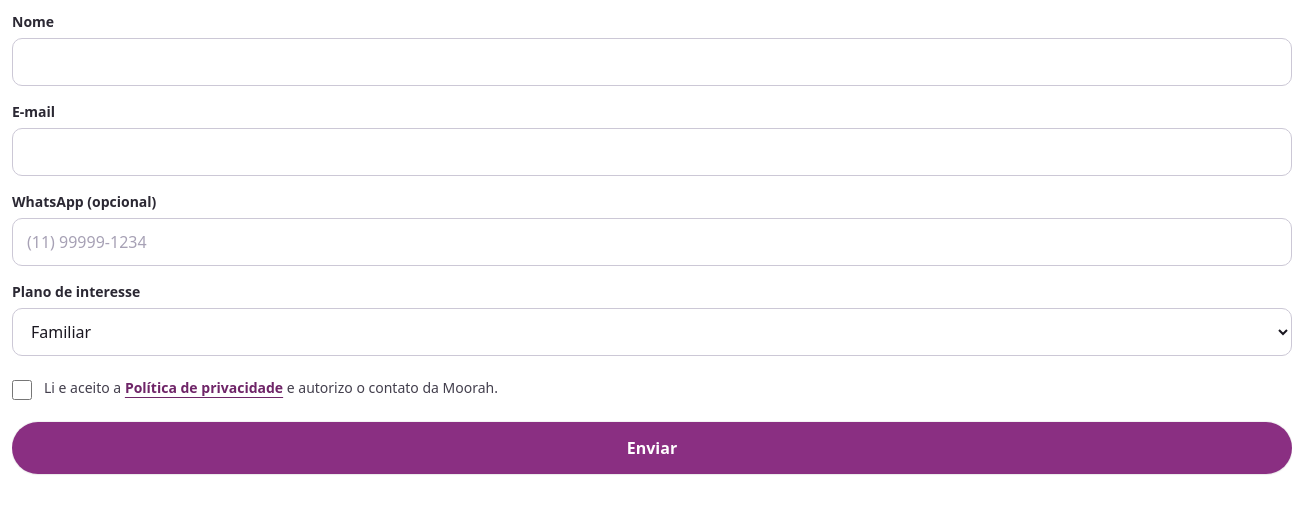
Test case: LeadForm › mostra a mensagem de rate limit em 429
Type "Maria Teste" into the field labelled "Nome".
click(652, 62); type("Maria Teste")  # box [12,38,1292,86]
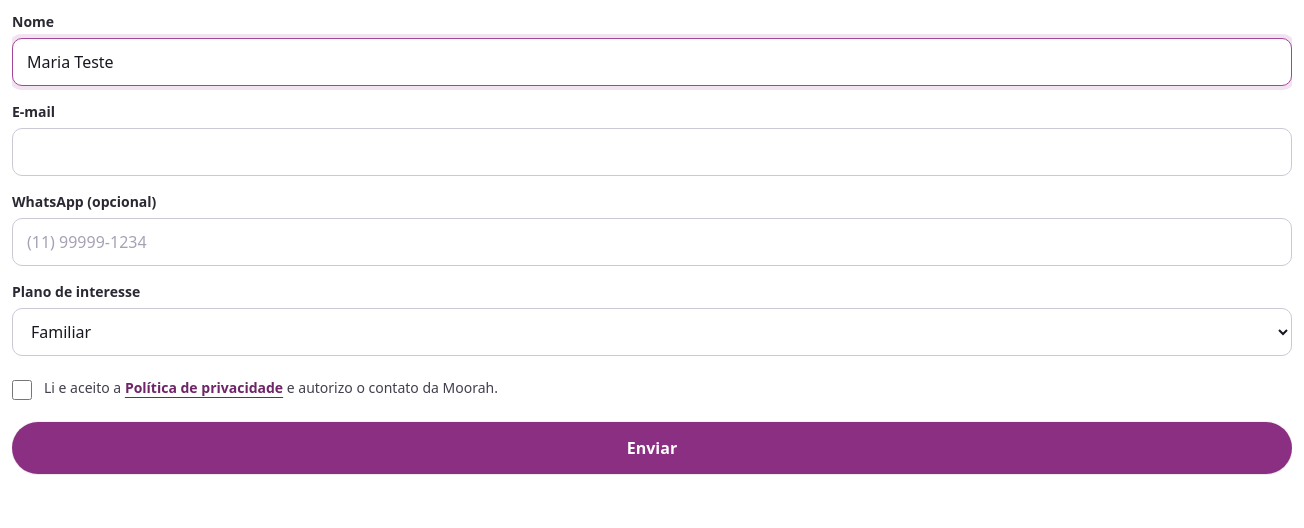
Type "Maria@Exemplo.com.br" into the field labelled "E-mail".
click(652, 152); type("Maria@Exemplo.com.br")  # box [12,128,1292,176]
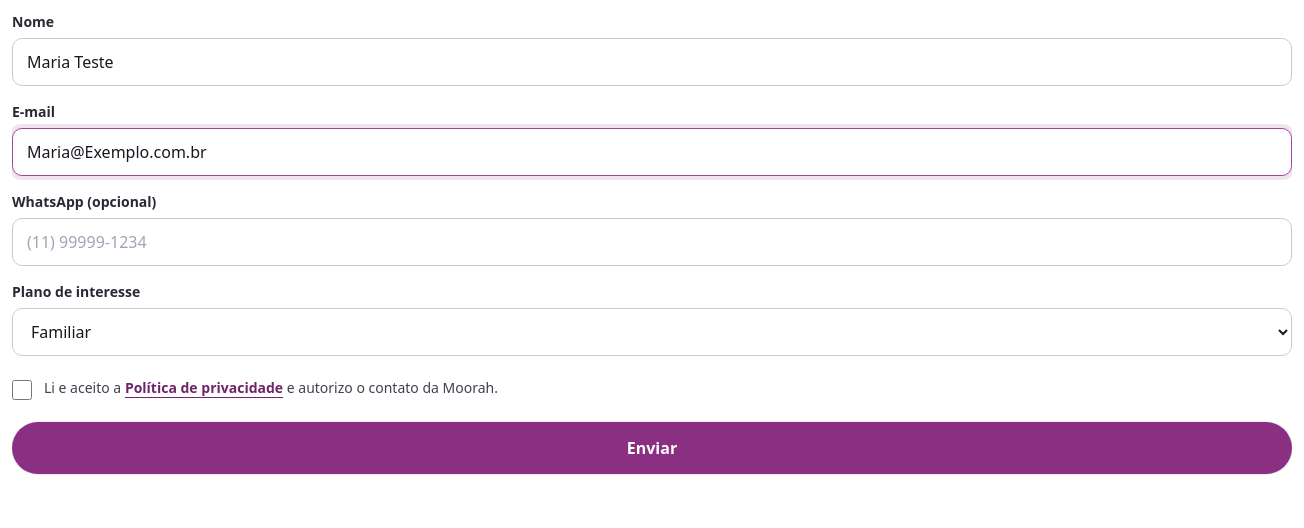
Click the checkbox.
click(22, 390)  # box [12,380,32,400]
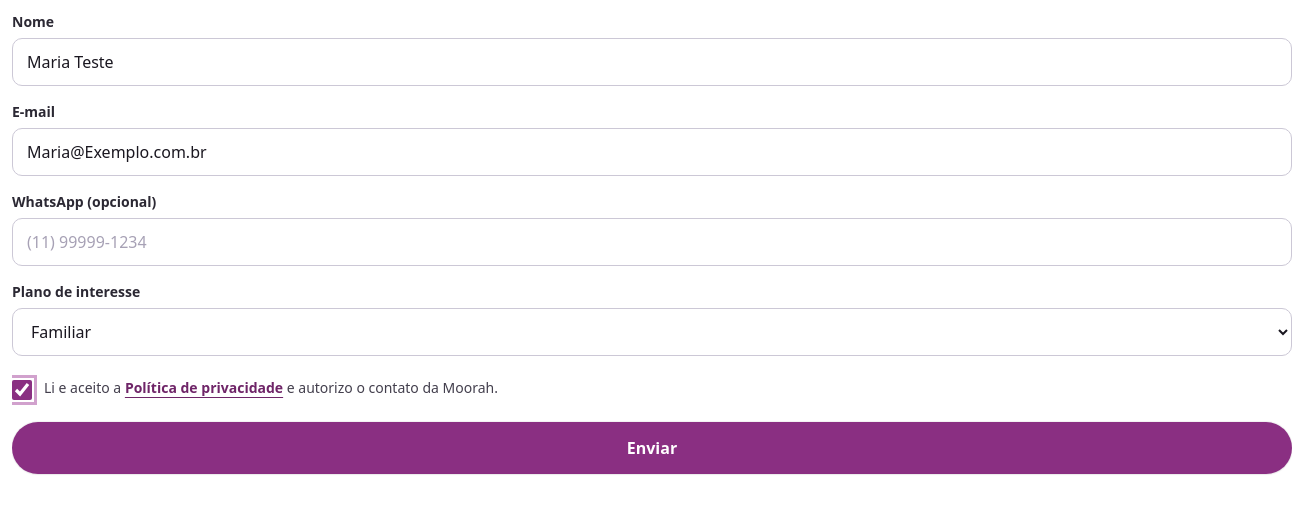
Click the button "Enviar".
click(652, 448)  # box [12,422,1292,474]
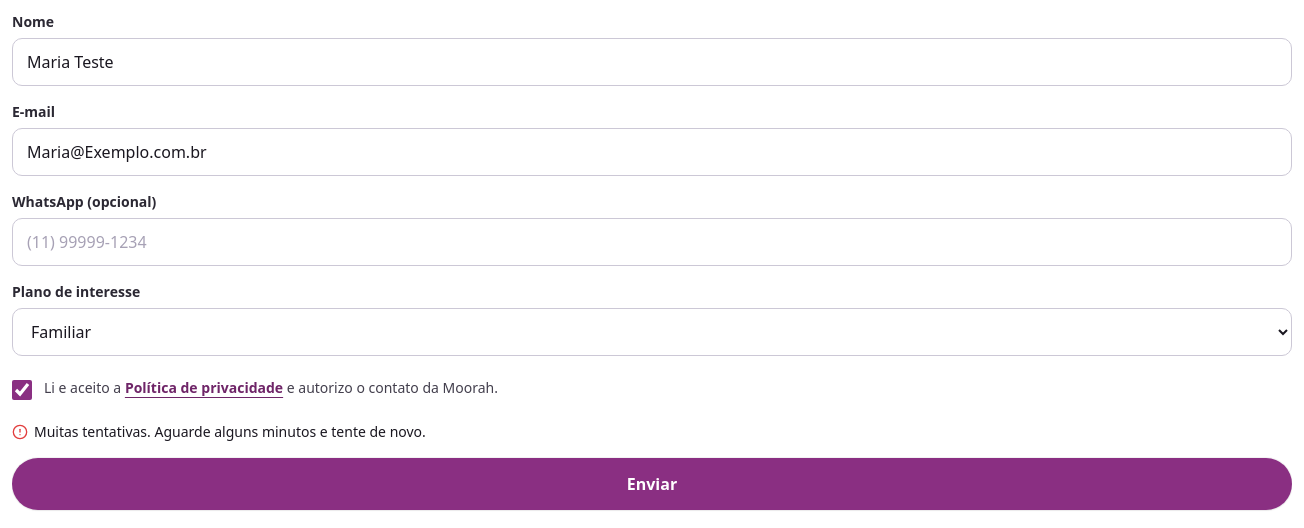
Expected: the button "Enviar" is enabled, [12,458,1292,510]
Expected: the message reads "Muitas tentativas. Aguarde alguns minutos e tente de novo.", [34,422,426,441]
